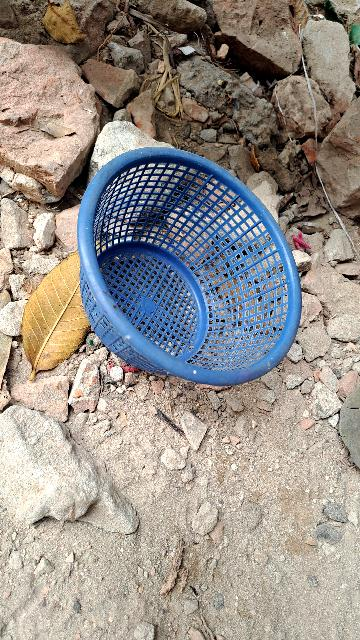hardplastic: (75, 122, 307, 396)
